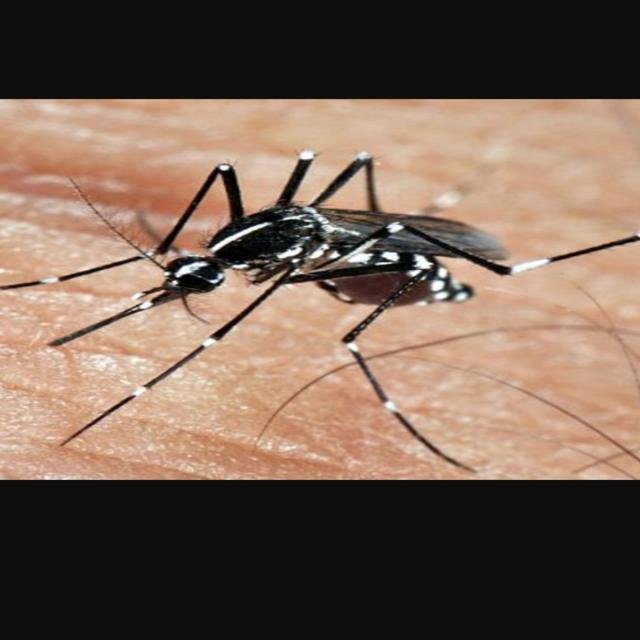albopictus: (0, 136, 640, 478)
